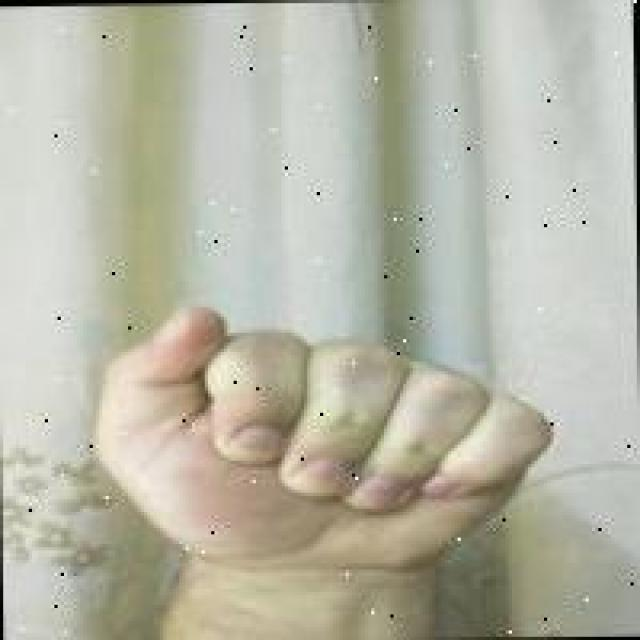A: (88, 291, 574, 605)
